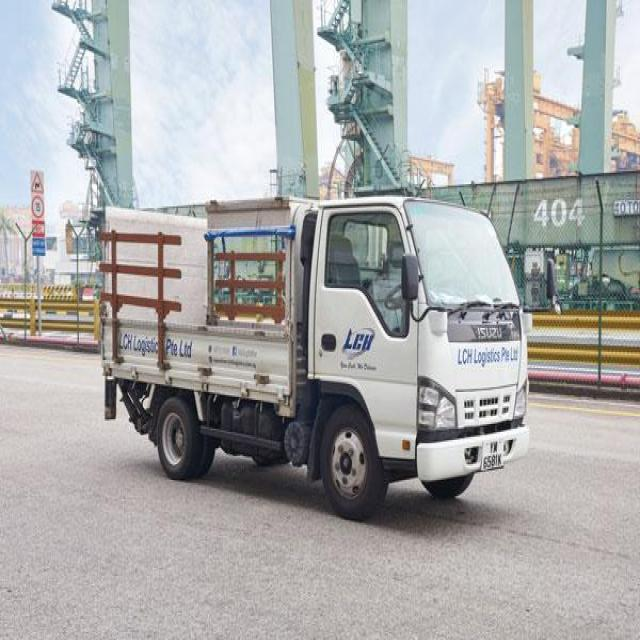truck: (102, 190, 529, 523)
